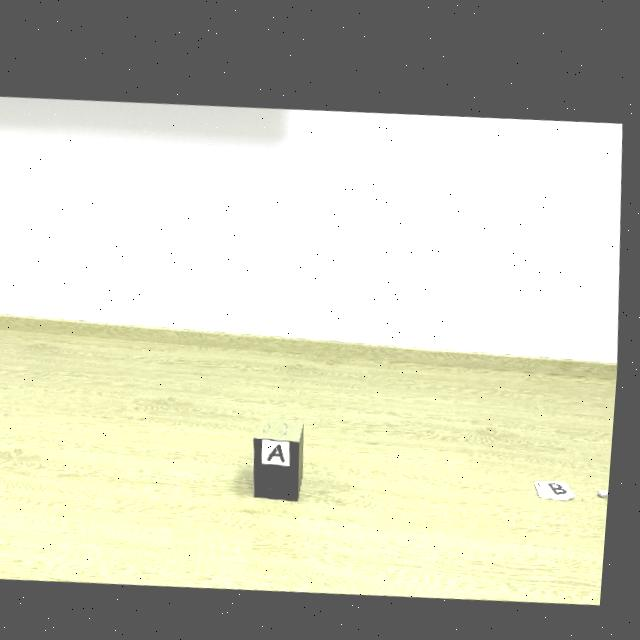A: (274, 438, 292, 455)
B: (555, 471, 573, 483)
